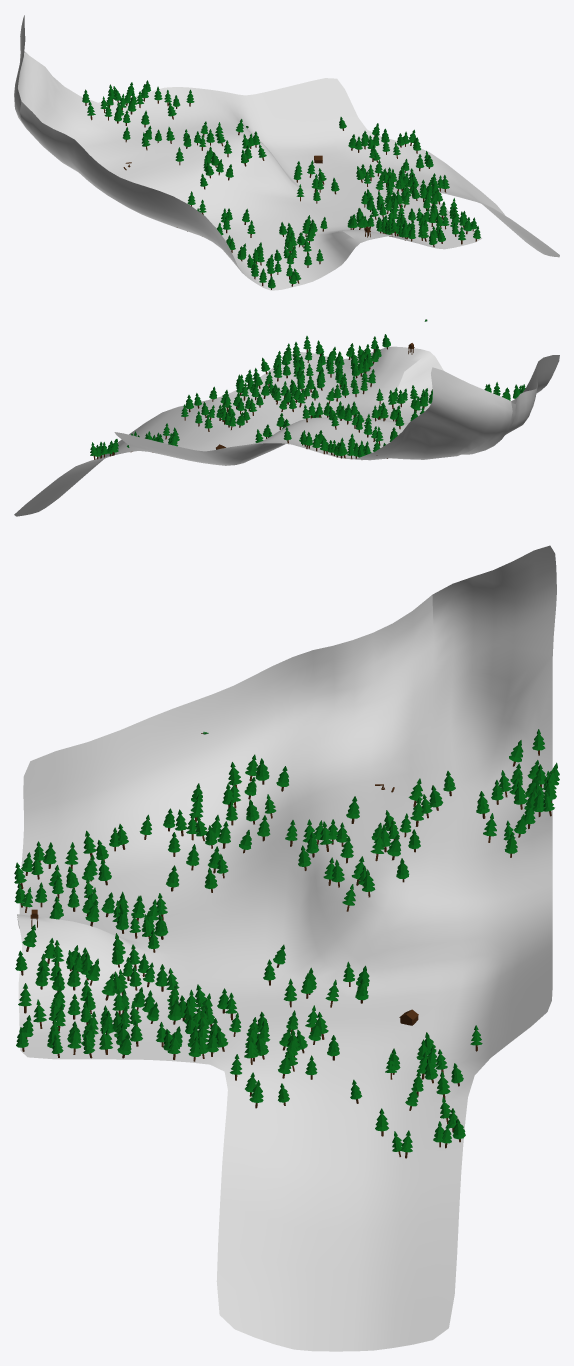
File: level _graybox.fbx
3 views of the same model, one above another, from view 1: azimuth 30°, elevation 25°; view 2: azimuth 150°, elevation 25°; view 3: azimuth 270°, elevation 25° (orthographic). The views are drawn at different scales.
Visible parts, largest first — view 1: Cube; view 2: Cube; view 3: Cube.
Boxes of the visible parts, x1,y1,x2,y2 form: Cube: [14, 15, 559, 290]; Cube: [14, 346, 559, 516]; Cube: [17, 545, 556, 1351].
Size of the model in its own units: 29571 by 16901 by 18047.
